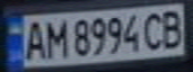4: (121, 11, 145, 54)
8: (69, 16, 93, 57)
9: (87, 14, 109, 56), (106, 12, 127, 55)
A: (18, 18, 48, 61)
B: (157, 7, 190, 50)
C: (139, 8, 169, 52)
M: (42, 17, 69, 60)
